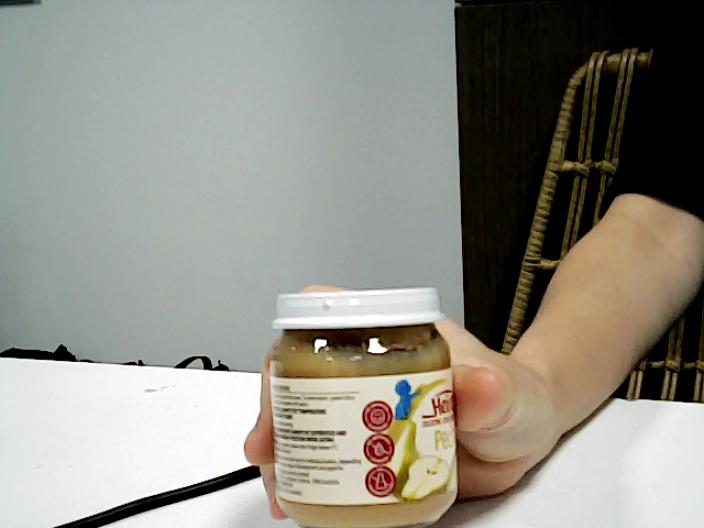Babyfood_100-199g_NonHalal_NonHealthy: (270, 292, 457, 519)
